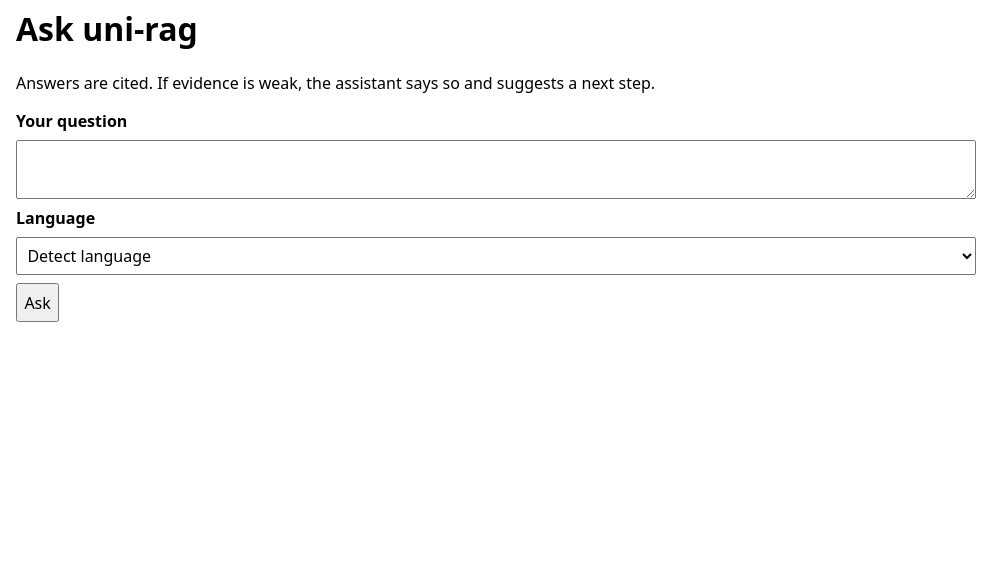
Test: ChatPage › renders an Urdu answer right-to-left
In the text box labelled "Your question": (496, 169) x1=16 y1=140 x2=976 y2=199, type "فیس کتنی ہے؟"
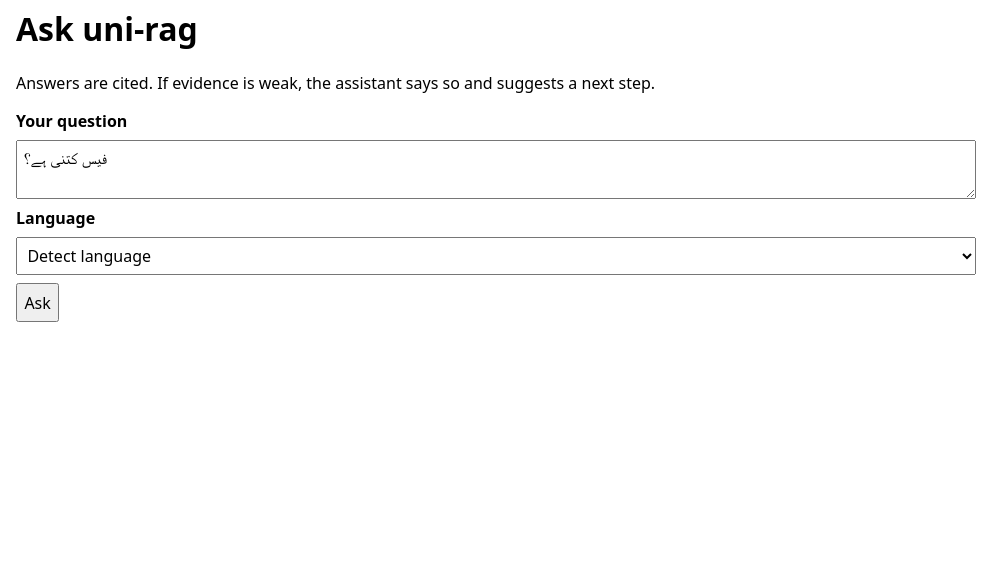
Click the button "Ask": (38, 303) x1=16 y1=283 x2=59 y2=322
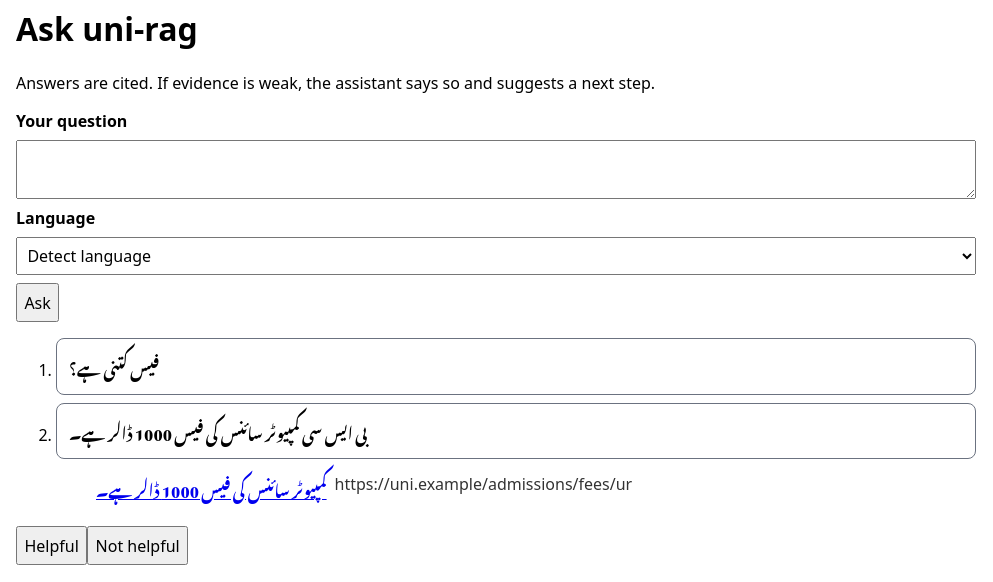
Check: the text "بی ایس سی کمپیوٹر سائنس کی فیس 1000 ڈالر ہے۔" is shown, box x1=69 y1=411 x2=367 y2=451
